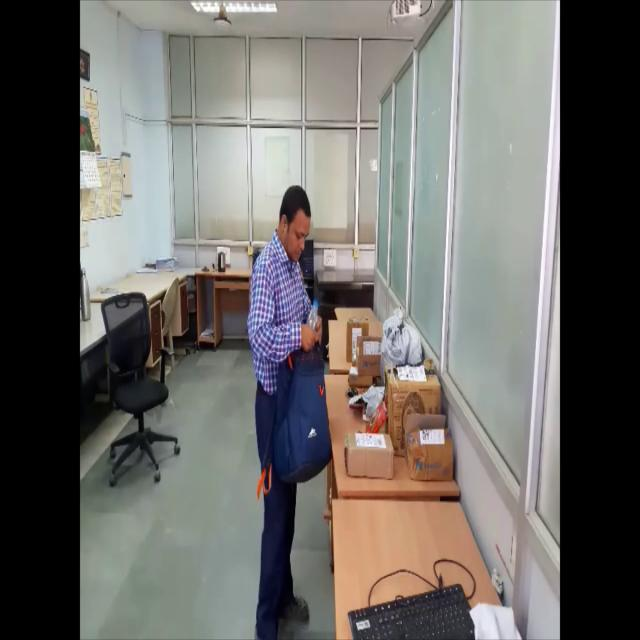shoplifting: (232, 175, 347, 640)
